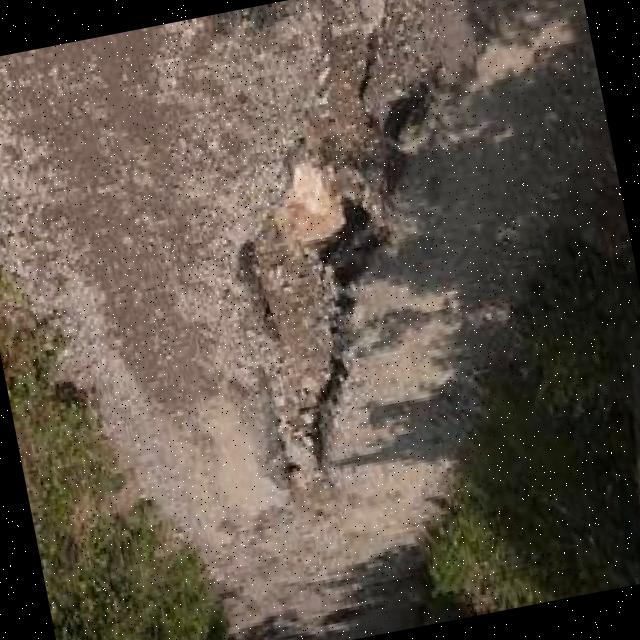road collapse: (70, 0, 625, 623)
